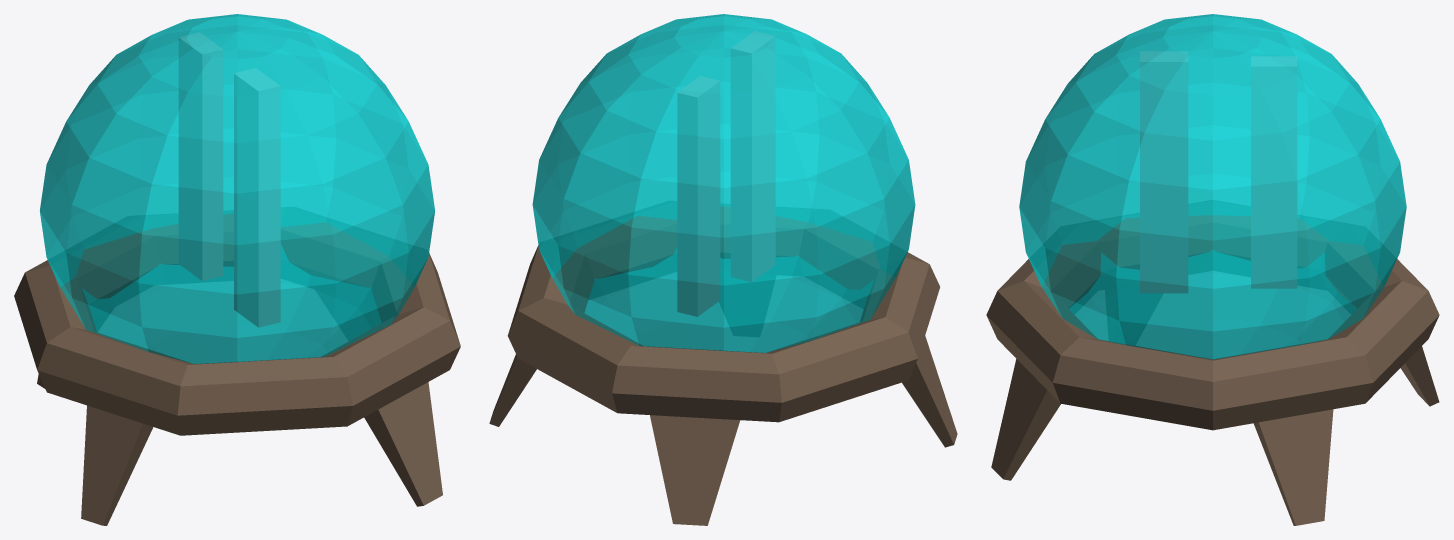
File: SM_BouleDeCristalPause.fbx
3 views of the same model, side by side, from view 1: azimuth 30°, elevation 25°; view 2: azimuth 150°, elevation 25°; view 3: azimuth 270°, elevation 25° (orthographic). The views are drawn at different scales.
Parts seen in each view (by area): view 1: Boule_de_cristal3; view 2: Boule_de_cristal3; view 3: Boule_de_cristal3.
Boxes of the visible parts, <box> form: Boule_de_cristal3: <box>14,14,460,525</box>; Boule_de_cristal3: <box>489,14,957,525</box>; Boule_de_cristal3: <box>986,14,1439,525</box>.
Size of the model in its own units: 1.38 by 1.36 by 1.38.
